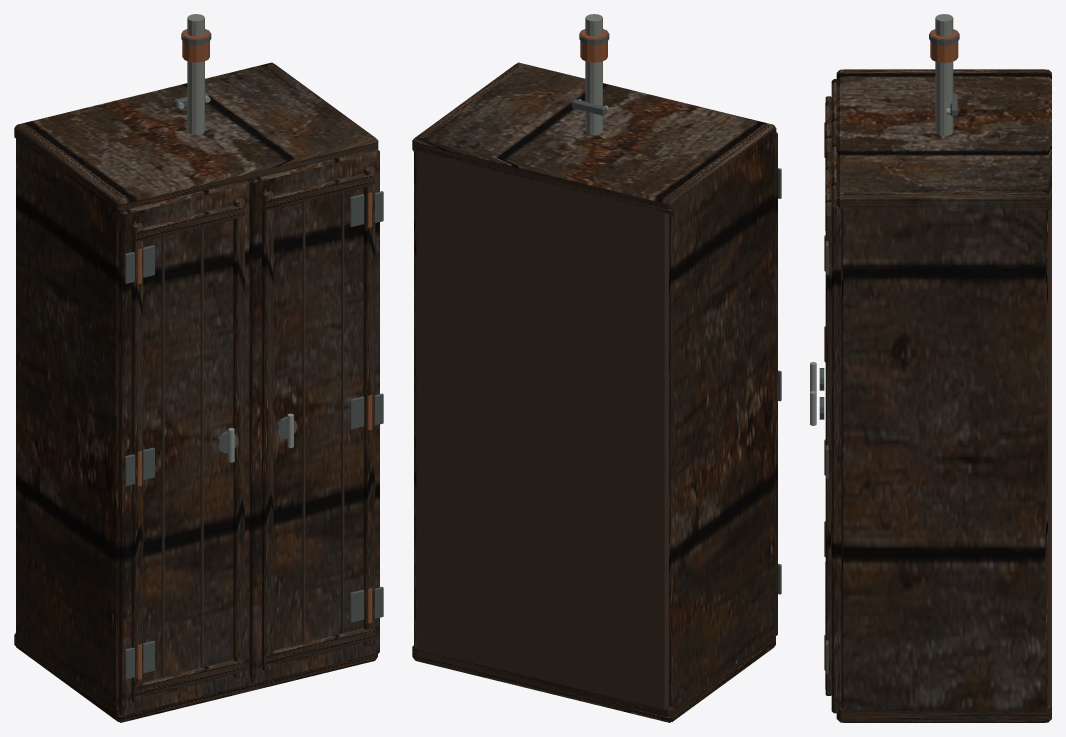
File: escape-props-v1.glb
3 views of the same model, side by side, from view 1: azimuth 30°, elevation 25°; view 2: azimuth 150°, elevation 25°; view 3: azimuth 270°, elevation 25° (orthographic).
Visible parts, largest first — view 1: wardrobe__wood_dark_old, wardrobe_door_panel_left, wardrobe_door_panel_right, wardrobe_door_right__wood_worn_edge, wardrobe_door_left__wood_worn_edge, wardrobe_door_right__wood_interior, wardrobe_door_left__wood_interior, wardrobe__iron_blackened, pipe_main, wardrobe_door_left__iron_blackened, wardrobe_door_right__iron_blackened, wardrobe__iron_rust (+1 smaller); view 2: wardrobe_back, wardrobe__wood_dark_old, wardrobe_door_panel_left, pipe_main, pipe__iron_rust; view 3: wardrobe__wood_dark_old, wardrobe_door_panel_right, wardrobe_door_right__wood_worn_edge, wardrobe_back, pipe_main, pipe__iron_rust, wardrobe_door_right__iron_blackened, wardrobe_door_left__wood_worn_edge, wardrobe__iron_rust.
Part boxes in pixels (x1,y1,x2,y2): wardrobe__wood_dark_old: (14,62,378,722); wardrobe_door_panel_left: (118,180,249,715); wardrobe_door_panel_right: (249,148,379,684); wardrobe_door_right__wood_worn_edge: (262,166,375,671); wardrobe_door_left__wood_worn_edge: (131,198,244,703); wardrobe_door_right__wood_interior: (302,192,344,642); wardrobe_door_left__wood_interior: (161,227,203,677); wardrobe__iron_blackened: (143,194,364,673); pipe_main: (187,14,204,134); wardrobe_door_left__iron_blackened: (124,252,238,679); wardrobe_door_right__iron_blackened: (275,191,383,618); wardrobe__iron_rust: (137,192,372,679); wardrobe_back: (416,148,668,709); wardrobe__wood_dark_old: (412,62,776,722); wardrobe_door_panel_left: (774,132,777,635); pipe_main: (585,14,602,134); pipe__iron_rust: (580,29,607,62); wardrobe__wood_dark_old: (836,69,1051,722); wardrobe_door_panel_right: (831,143,841,713); wardrobe_door_right__wood_worn_edge: (825,160,831,695); wardrobe_back: (1048,207,1051,706); pipe_main: (935,14,953,135); pipe__iron_rust: (930,29,958,63); wardrobe_door_right__iron_blackened: (819,241,828,673); wardrobe_door_left__wood_worn_edge: (825,96,831,624); wardrobe__iron_rust: (824,122,825,670).
Size of the model in its own units: 1.2 by 2.8 by 0.9555.
9 materials, 2 textured.
